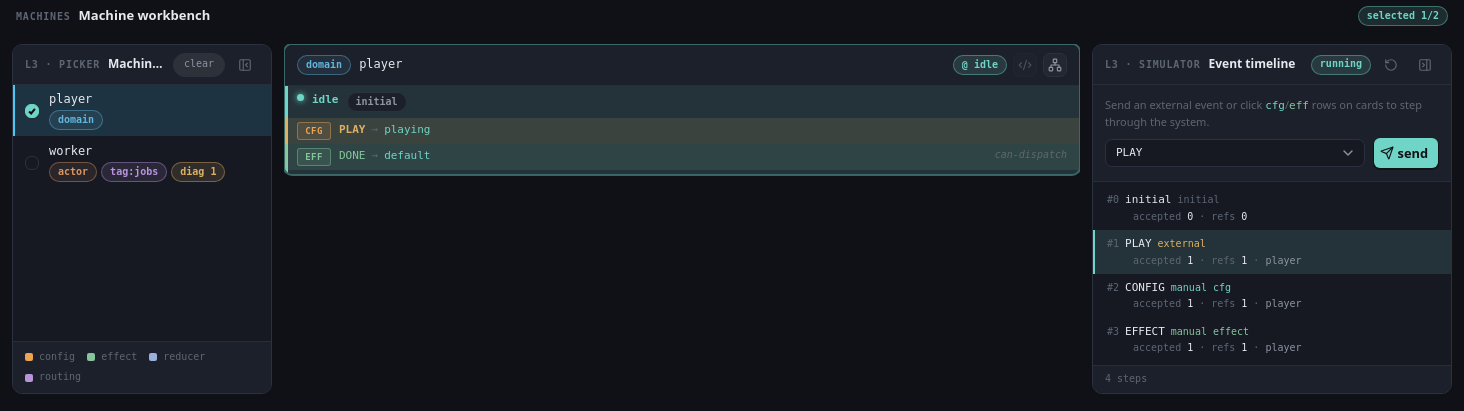
Test: панель MachinesPanel › монтирует event options только при открытом select
The image size is (1464, 411).
expect the text "STOP" is not shown: met
Press Enter in the dropdown with test id "visualizer-workbench-event-select", box [1105, 139, 1365, 167]
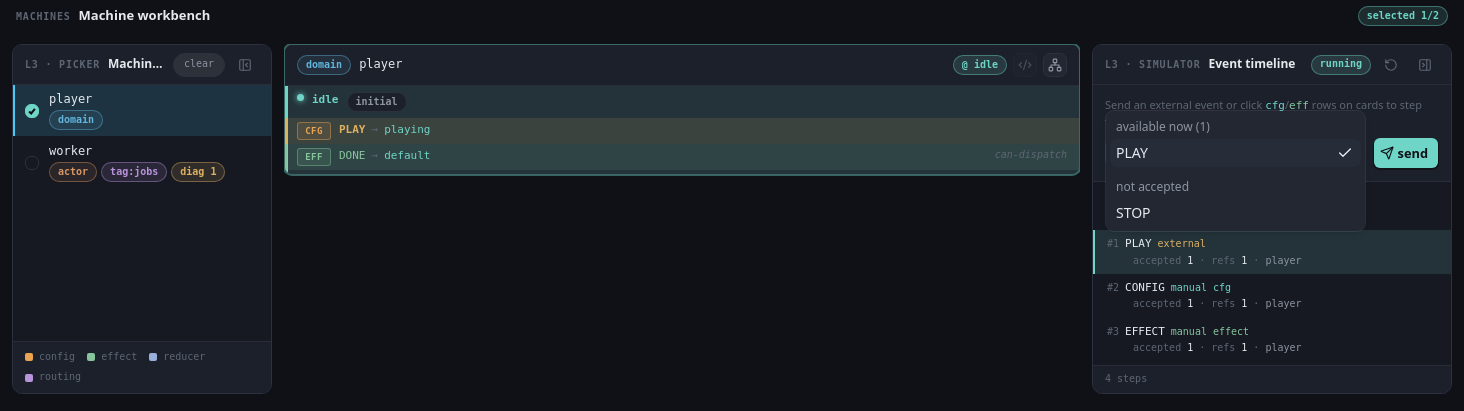
expect the text "STOP" is shown: met
Click the option "STOP" at (1133, 213), box [1116, 203, 1151, 222]
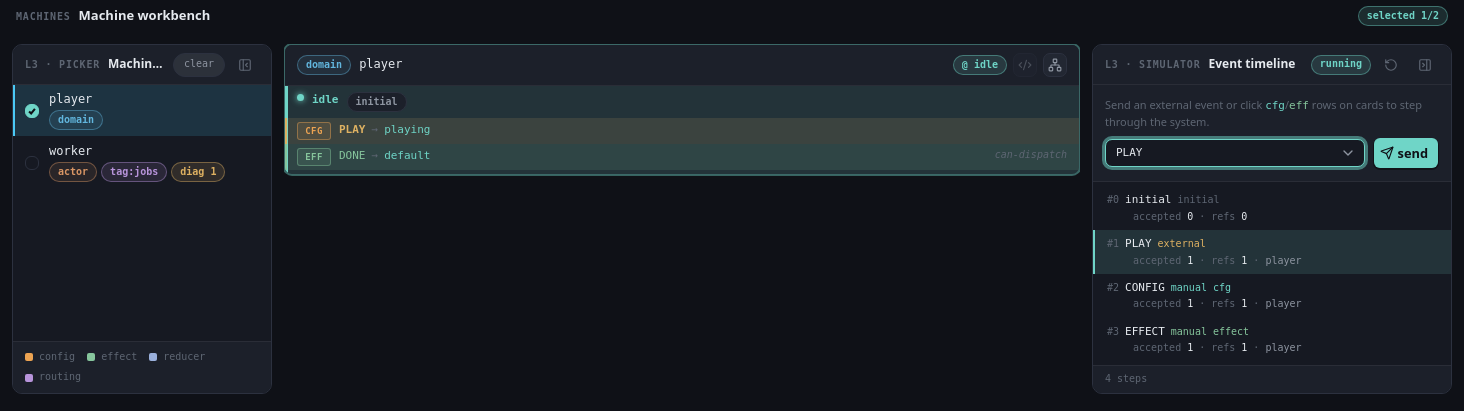
expect the option "STOP" is gone: met
